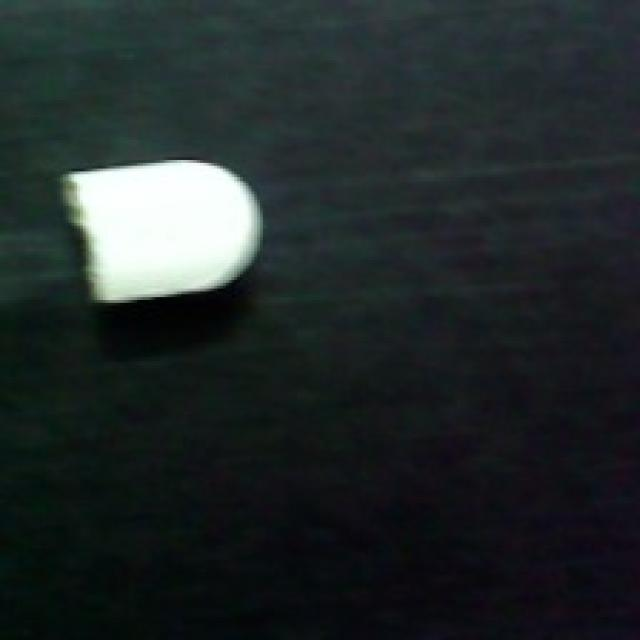defected: (43, 151, 266, 311)
